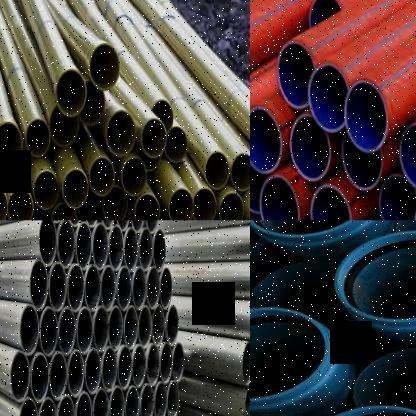pipe: (250, 306, 330, 402), (334, 230, 416, 322), (250, 261, 354, 333), (352, 347, 416, 416), (250, 220, 375, 246), (345, 79, 388, 153), (308, 63, 349, 134), (290, 114, 331, 183), (277, 41, 314, 110), (340, 132, 382, 191), (250, 107, 283, 174), (259, 174, 300, 220), (378, 173, 416, 220), (310, 184, 352, 220), (55, 69, 87, 116), (106, 109, 136, 157), (296, 404, 416, 416), (90, 43, 120, 90), (49, 104, 79, 148), (308, 0, 342, 38), (79, 80, 105, 126), (398, 122, 416, 188), (9, 349, 30, 403), (29, 350, 50, 403), (29, 258, 49, 313), (19, 303, 39, 357), (48, 349, 68, 403), (38, 305, 58, 358), (89, 156, 115, 196), (0, 122, 23, 167), (63, 168, 88, 209), (250, 158, 267, 218), (33, 170, 59, 209), (57, 305, 76, 358), (66, 347, 85, 400), (142, 118, 167, 158), (121, 156, 146, 196), (67, 260, 85, 315), (56, 220, 76, 268), (83, 262, 101, 315), (84, 345, 102, 398), (26, 119, 50, 158), (49, 261, 67, 313), (205, 151, 229, 189), (164, 126, 188, 163), (102, 186, 128, 220), (75, 221, 92, 272), (92, 221, 109, 272), (100, 263, 117, 314), (7, 188, 34, 220), (108, 224, 125, 274), (168, 188, 194, 220), (38, 220, 56, 266), (76, 308, 94, 354), (193, 186, 217, 220), (122, 226, 139, 274), (116, 343, 133, 391), (101, 344, 117, 394), (116, 264, 132, 313), (151, 99, 174, 133), (123, 305, 139, 353), (93, 305, 109, 353), (108, 306, 124, 354), (131, 342, 147, 390), (231, 152, 250, 192), (137, 304, 153, 350), (158, 266, 174, 311), (132, 265, 147, 312), (145, 343, 161, 387), (219, 192, 244, 220), (138, 226, 153, 272), (134, 194, 160, 220), (151, 305, 166, 348), (146, 266, 160, 311), (159, 341, 173, 386), (153, 228, 167, 272), (165, 304, 179, 348), (172, 341, 185, 384), (124, 382, 140, 416), (153, 380, 168, 416), (91, 386, 109, 416), (139, 383, 155, 416), (165, 380, 179, 416), (109, 385, 125, 416), (74, 391, 92, 416), (51, 203, 77, 220), (56, 394, 75, 416), (36, 396, 56, 416), (242, 337, 250, 387), (17, 397, 36, 416), (24, 206, 48, 220), (243, 377, 250, 416), (0, 186, 8, 220), (129, 220, 145, 235), (114, 220, 130, 234), (143, 220, 159, 234), (98, 220, 116, 232)
